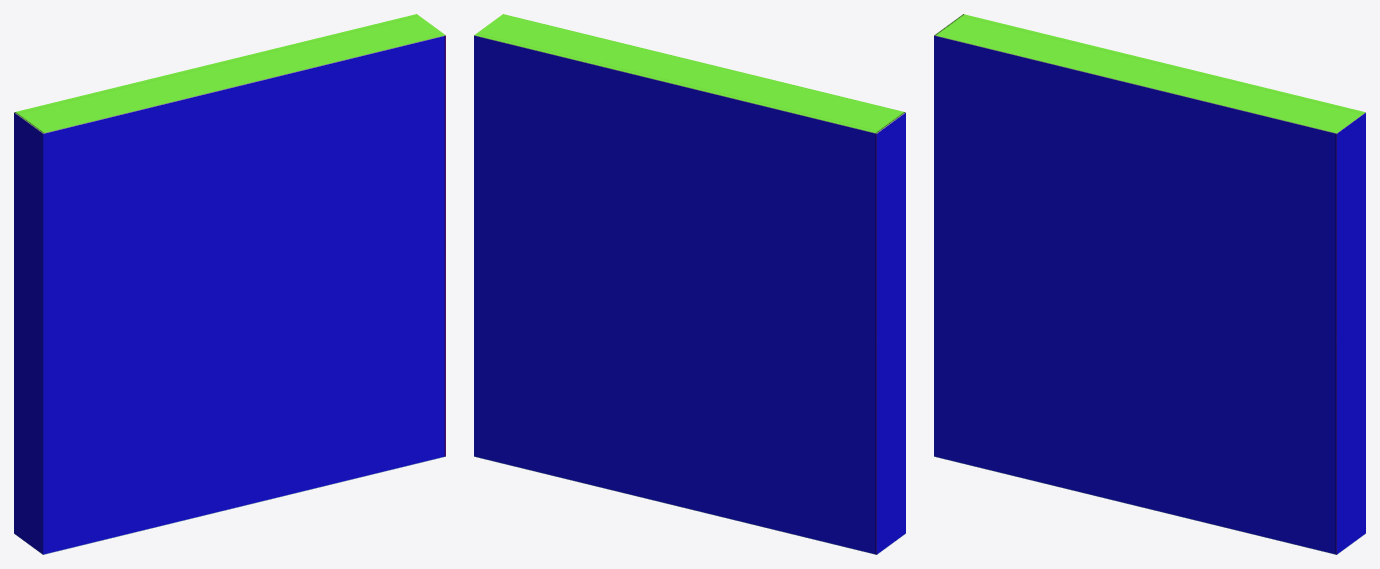
The model's file is MK_MK_Wall_E.fbx.
3 renders of one model, left to right at view 1: azimuth 30°, elevation 25°; view 2: azimuth 150°, elevation 25°; view 3: azimuth 330°, elevation 25°, orthographic.
Visible parts, largest first — view 1: MK_Wall_E; view 2: MK_Wall_E; view 3: MK_Wall_E.
Boxes of the visible parts, bbox=[...] form: MK_Wall_E: bbox=[14, 14, 445, 554]; MK_Wall_E: bbox=[474, 14, 905, 554]; MK_Wall_E: bbox=[934, 14, 1365, 554].
Size of the model in its own units: 180 by 180 by 22.5.
Materials: 1 (1 with a texture image).
